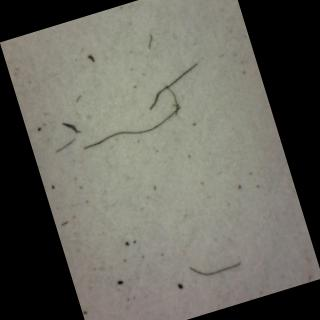Microplastic: (74, 95, 196, 178), (132, 56, 212, 118), (175, 240, 246, 306)
